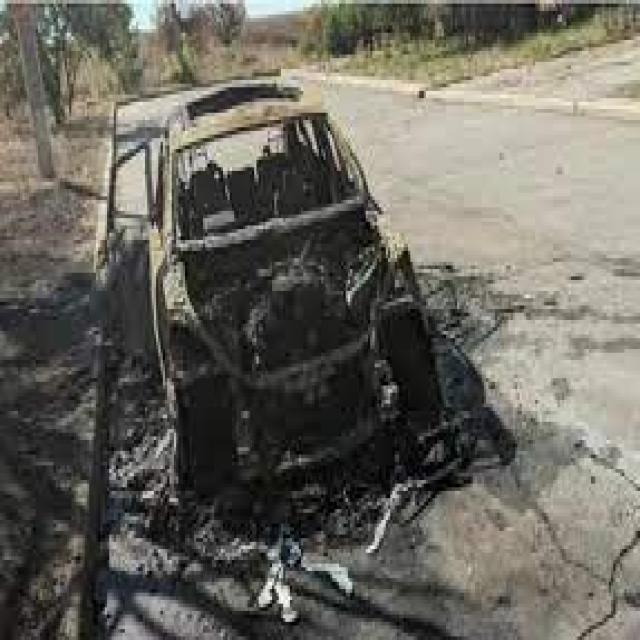car: (91, 77, 426, 494)
